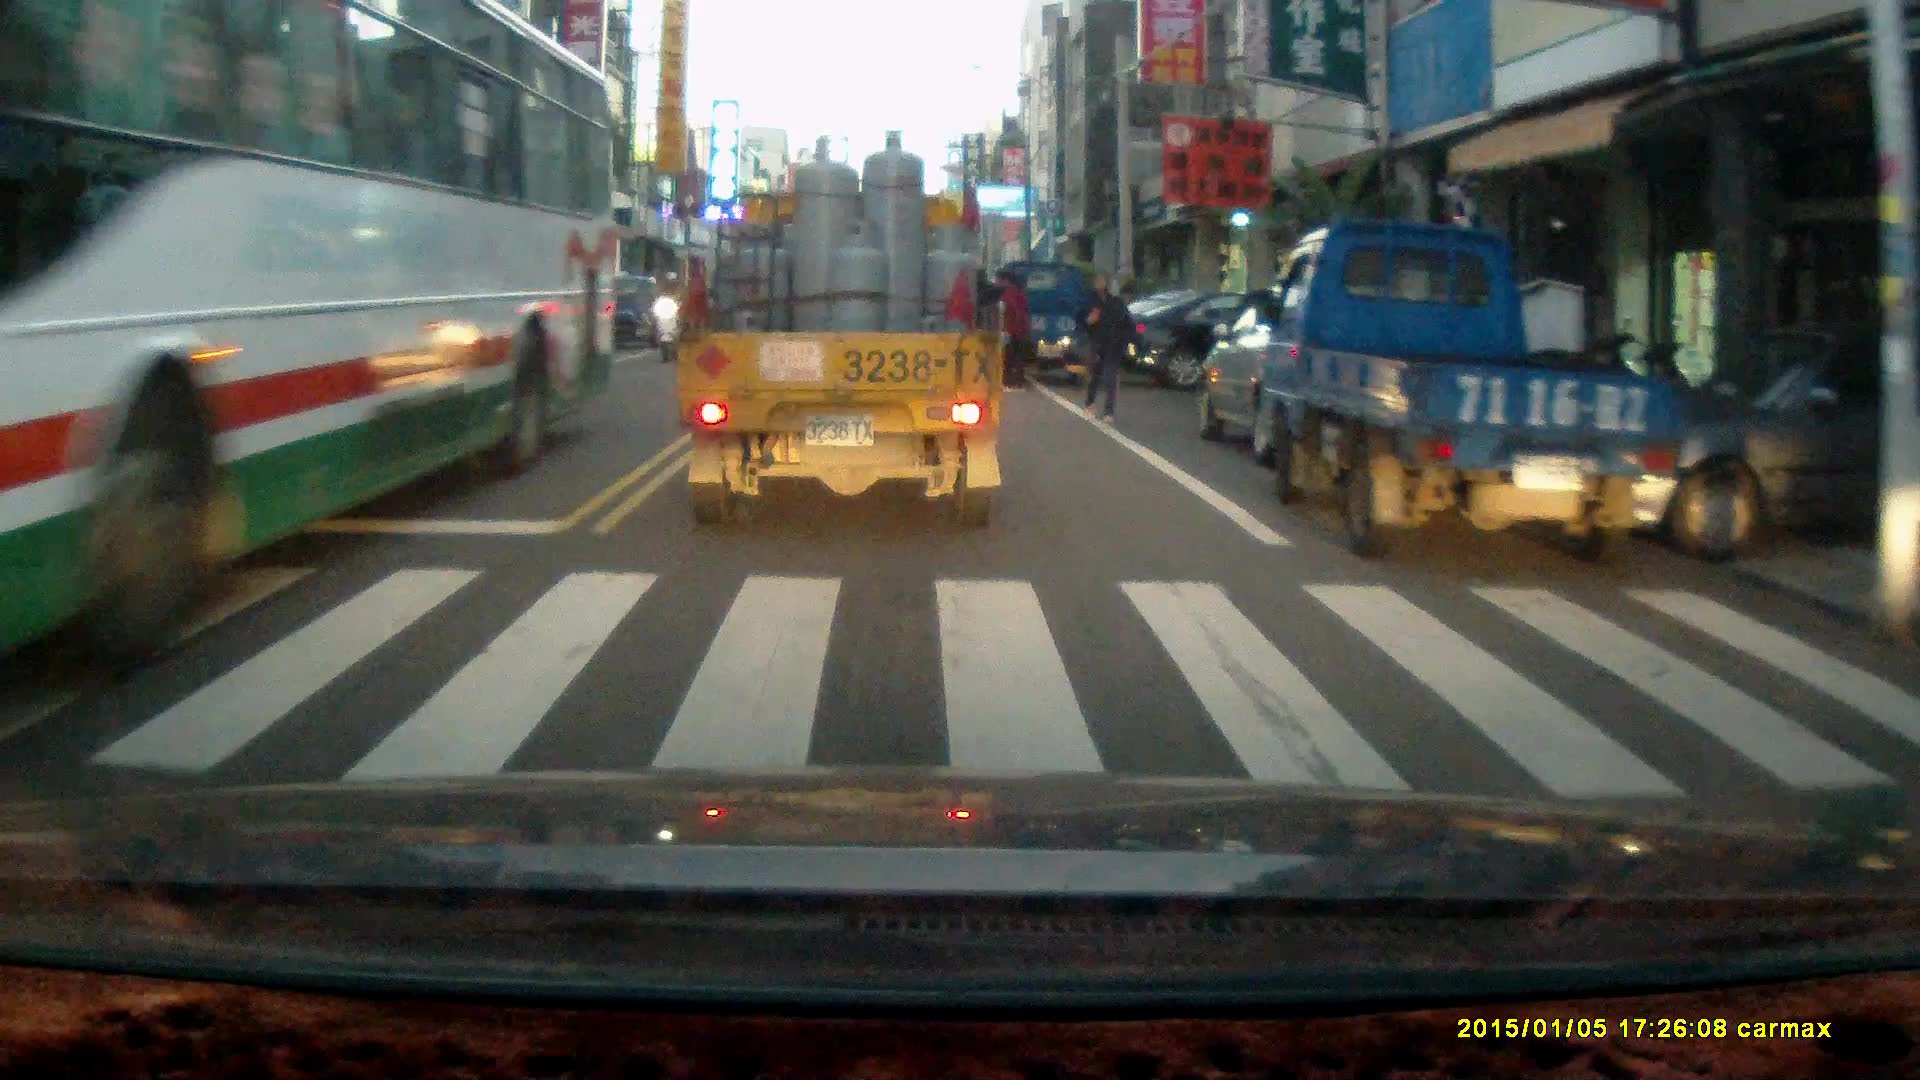pedestrian: (1074, 270, 1140, 423), (994, 268, 1030, 392)
rider: (651, 271, 689, 365)
vehicle: (1, 14, 620, 676), (1249, 216, 1678, 565), (675, 129, 1011, 535), (1193, 281, 1473, 473), (1122, 278, 1363, 394), (987, 260, 1112, 390), (473, 282, 595, 372)
